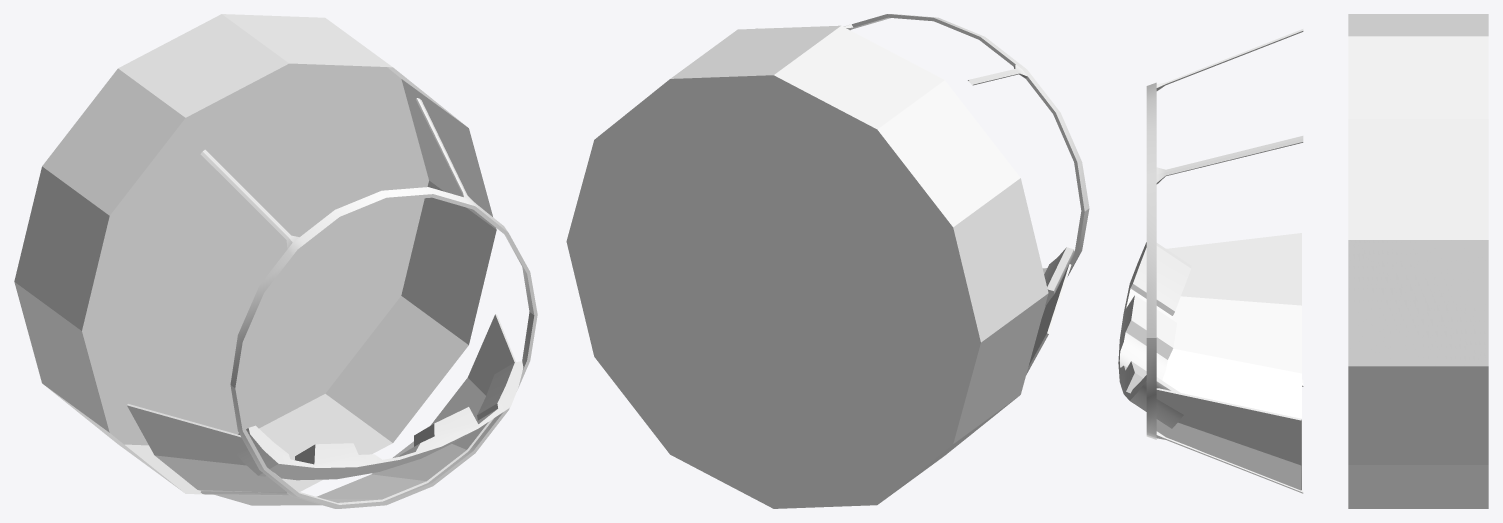
Rendered from cockpit.fbx.
3 renders of one model, left to right at view 1: azimuth 30°, elevation 25°; view 2: azimuth 150°, elevation 25°; view 3: azimuth 270°, elevation 25°, orthographic. The views are drawn at different scales.
Visible parts, largest first — view 1: cockpit6; view 2: cockpit6; view 3: cockpit6.
Boxes of the visible parts, <box> form: cockpit6: <box>14,14,537,508</box>; cockpit6: <box>566,14,1089,508</box>; cockpit6: <box>1118,14,1488,508</box>.
Bounding box in the file's own units: 179 × 179 × 133.
1 material, 1 textured.
